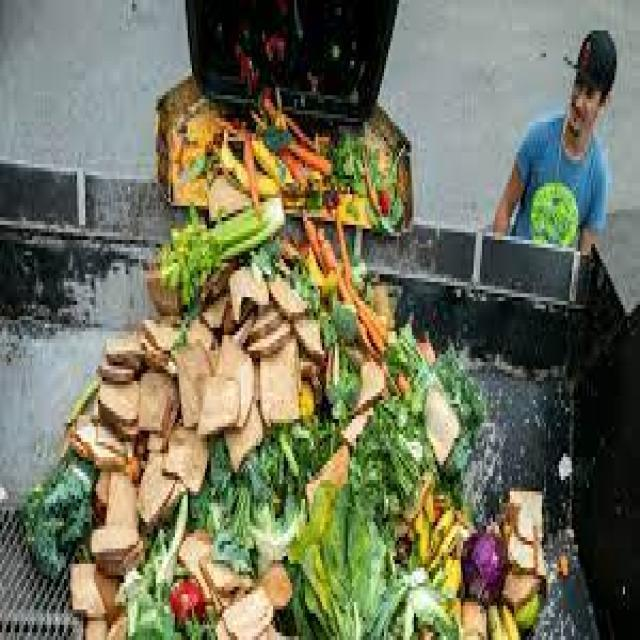Garbage: (22, 0, 541, 640)
